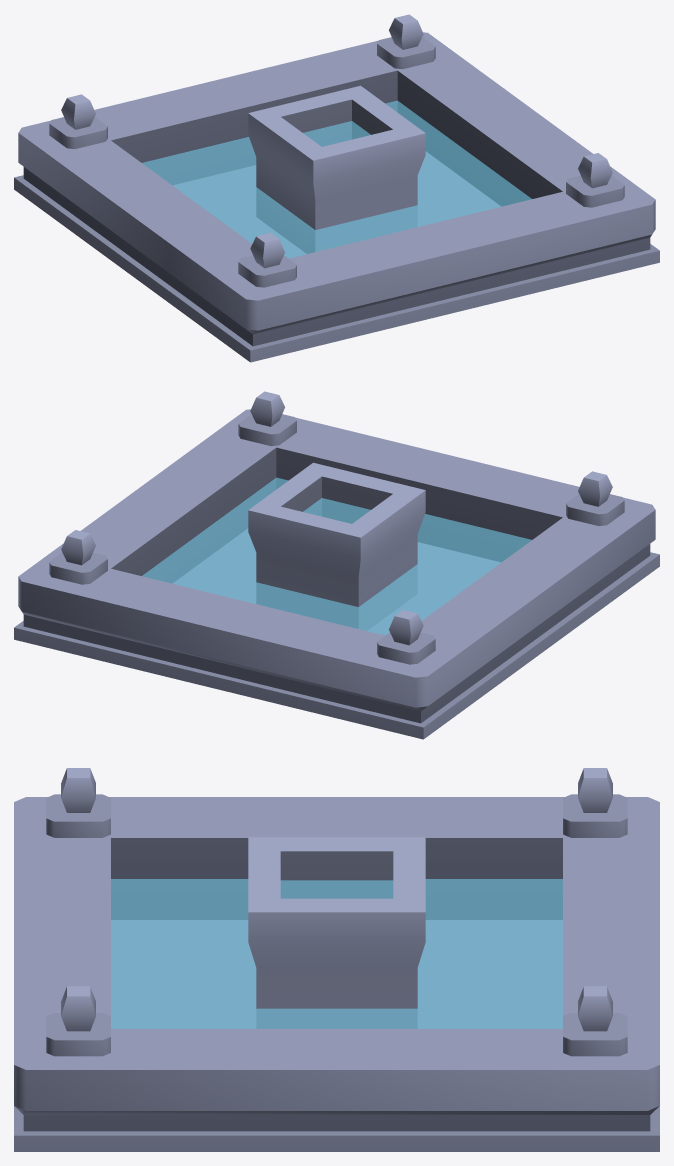
File: fountain_square_detail.glb
3 renders of one model, top to bottom at view 1: azimuth 30°, elevation 25°; view 2: azimuth 150°, elevation 25°; view 3: azimuth 270°, elevation 25°, orthographic. The views are drawn at different scales.
Parts seen in each view (by area): view 1: fountain-square-detail, (%ignore); view 2: fountain-square-detail, (%ignore); view 3: fountain-square-detail, (%ignore).
Boxes of the visible parts, x1,y1,x2,y2 form: fountain-square-detail: [14, 14, 659, 362]; (%ignore): [142, 100, 531, 258]; fountain-square-detail: [14, 391, 659, 739]; (%ignore): [142, 477, 531, 635]; fountain-square-detail: [14, 768, 659, 1151]; (%ignore): [111, 879, 562, 1028].
Size of the model in its own units: 2 by 0.48 by 2.
2 materials, 1 textured.
